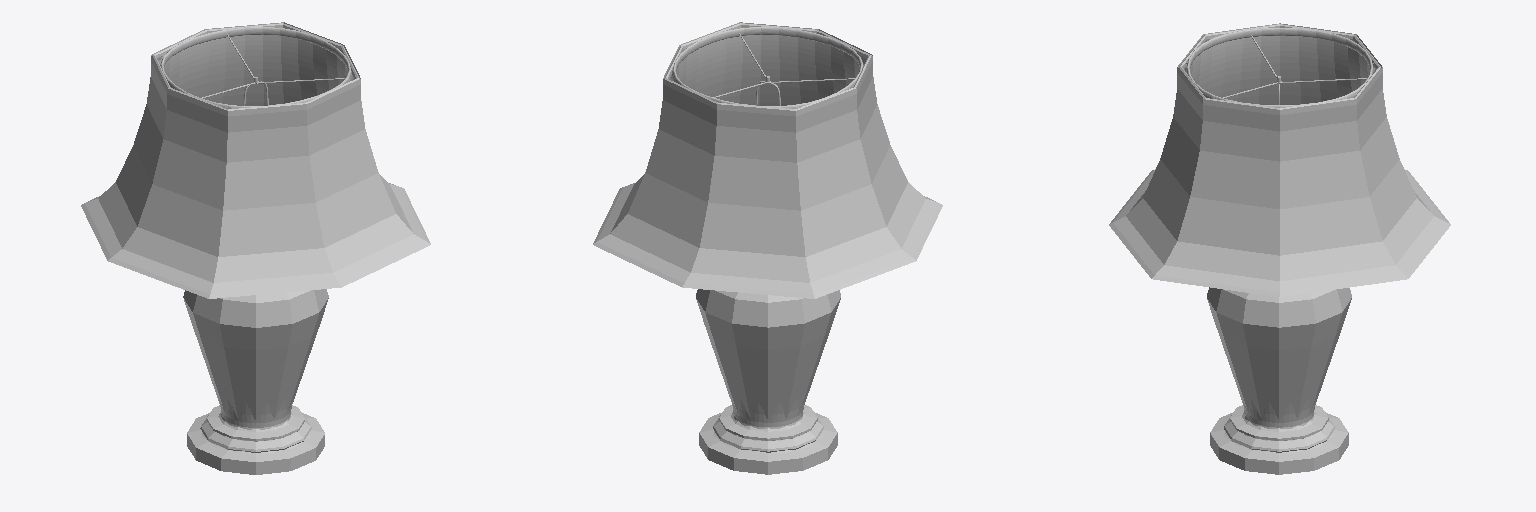
The model's file is lamp1.obj.
3 views of the same model, side by side, from view 1: azimuth 30°, elevation 25°; view 2: azimuth 150°, elevation 25°; view 3: azimuth 270°, elevation 25° (orthographic).
Parts seen in each view (by area): view 1: Mesh.004_Cube.002, Mesh.014_Circle.018, Mesh.019_Cube.004, Mesh.006_Circle.016, Mesh.016_Circle.008_Circle.000, Mesh.007_Circle.008_Circle.009, Mesh.011_Circle.019; view 2: Mesh.004_Cube.002, Mesh.014_Circle.018, Mesh.019_Cube.004, Mesh.006_Circle.016, Mesh.016_Circle.008_Circle.000, Mesh.007_Circle.008_Circle.009, Mesh.011_Circle.019; view 3: Mesh.004_Cube.002, Mesh.014_Circle.018, Mesh.019_Cube.004, Mesh.006_Circle.016, Mesh.016_Circle.008_Circle.000, Mesh.007_Circle.008_Circle.009, Mesh.011_Circle.019.
Boxes of the visible parts, box(x1,y1,x2,y2) form: Mesh.004_Cube.002: box(81, 22, 430, 298); Mesh.014_Circle.018: box(183, 289, 328, 431); Mesh.019_Cube.004: box(160, 35, 352, 108); Mesh.006_Circle.016: box(187, 405, 324, 474); Mesh.016_Circle.008_Circle.000: box(160, 27, 351, 107); Mesh.007_Circle.008_Circle.009: box(152, 23, 359, 110); Mesh.011_Circle.019: box(216, 391, 295, 429); Mesh.004_Cube.002: box(593, 22, 942, 298); Mesh.014_Circle.018: box(696, 289, 840, 431); Mesh.019_Cube.004: box(671, 35, 863, 108); Mesh.006_Circle.016: box(699, 405, 837, 474); Mesh.016_Circle.008_Circle.000: box(672, 27, 863, 107); Mesh.007_Circle.008_Circle.009: box(664, 23, 871, 110); Mesh.011_Circle.019: box(729, 392, 807, 428); Mesh.004_Cube.002: box(1109, 23, 1450, 296); Mesh.014_Circle.018: box(1207, 287, 1351, 431); Mesh.019_Cube.004: box(1185, 36, 1374, 104); Mesh.006_Circle.016: box(1210, 405, 1348, 474); Mesh.016_Circle.008_Circle.000: box(1186, 28, 1373, 107); Mesh.007_Circle.008_Circle.009: box(1179, 24, 1380, 109); Mesh.011_Circle.019: box(1240, 392, 1318, 428).
Size of the model in its own units: 1.6 by 1.95 by 1.6.